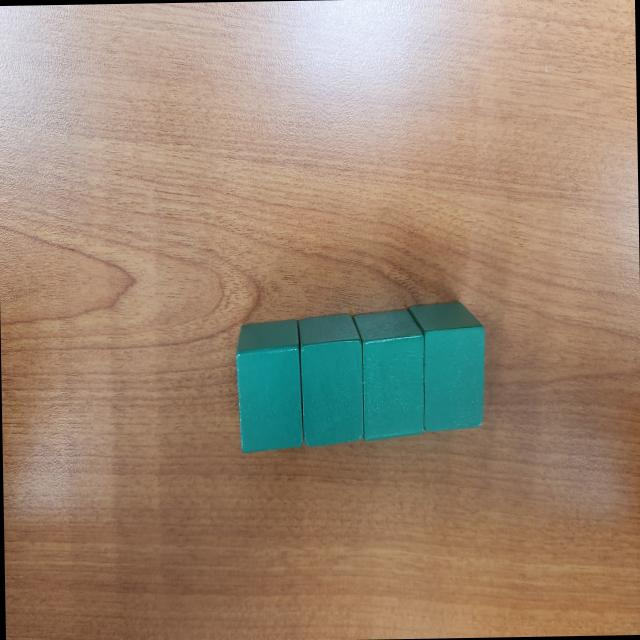green: (406, 302, 486, 436), (351, 307, 425, 441), (234, 318, 304, 453), (297, 312, 364, 449)
